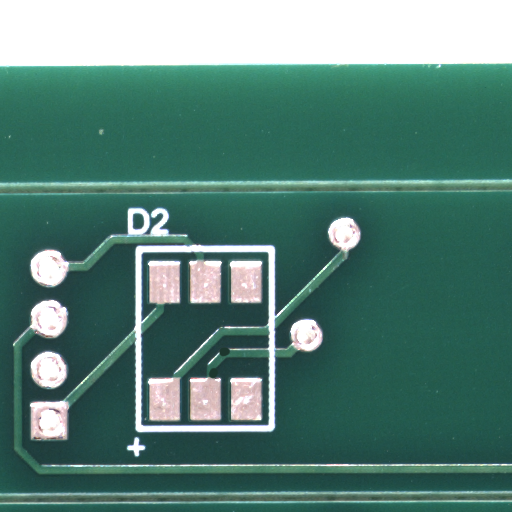Mouse_bite: (225, 352, 236, 362), (213, 373, 222, 382)
